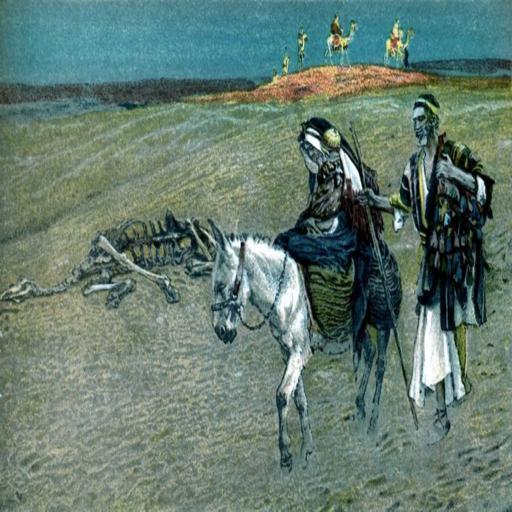horse: (204, 215, 408, 481)
